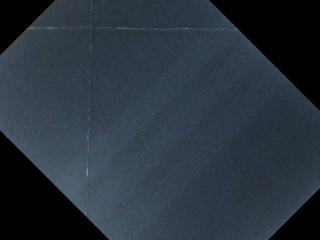crack: (79, 0, 100, 217), (25, 18, 238, 37)
